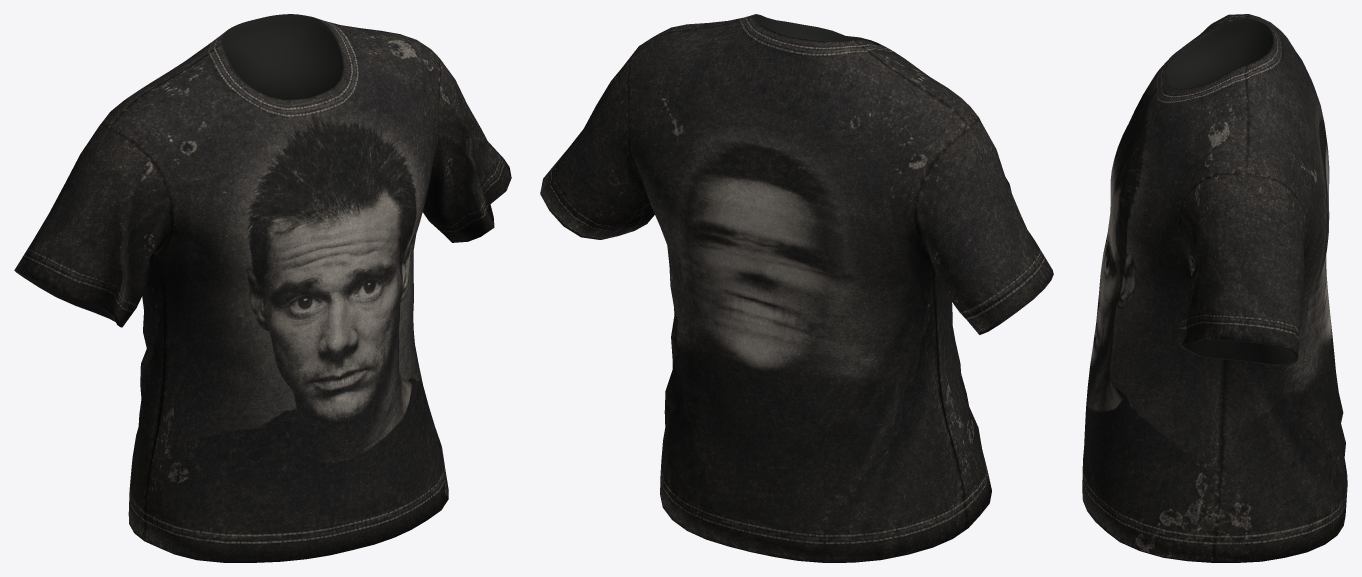
3 renders of one model, left to right at view 1: azimuth 30°, elevation 25°; view 2: azimuth 150°, elevation 25°; view 3: azimuth 270°, elevation 25°, orthographic. The views are drawn at different scales.
Visible parts, largest first — view 1: hash_439FD9BF.model; view 2: hash_439FD9BF.model; view 3: hash_439FD9BF.model.
Boxes of the visible parts, x1=… form: hash_439FD9BF.model: x1=14, y1=14, x2=511, y2=562; hash_439FD9BF.model: x1=540, y1=14, x2=1053, y2=562; hash_439FD9BF.model: x1=1082, y1=14, x2=1347, y2=562.
Size of the model in its own units: 0.6917 by 0.6536 by 0.3381.
